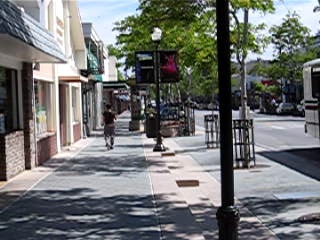person: (103, 102, 118, 152), (102, 102, 117, 152), (104, 102, 119, 152), (103, 101, 118, 151), (103, 103, 118, 153)
target_negative: (168, 62, 239, 141), (64, 134, 180, 155), (267, 119, 283, 227), (149, 185, 180, 239), (268, 197, 300, 203)
